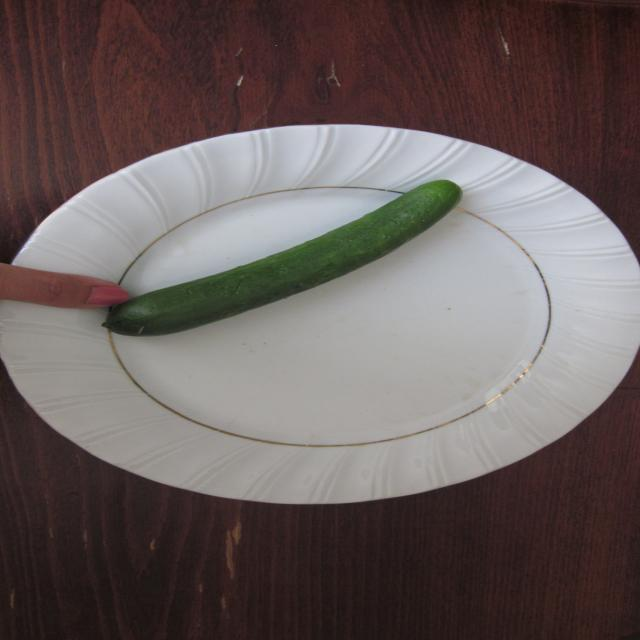cucumber: (112, 174, 480, 351)
